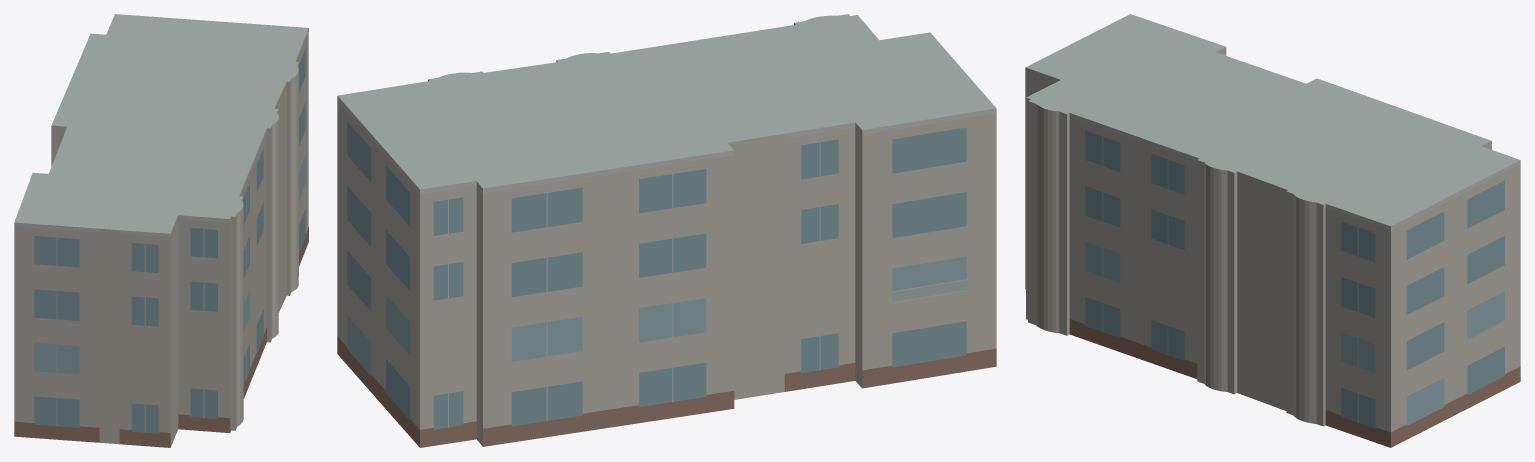
The model's file is survey-upis-32704688.glb.
3 renders of one model, left to right at view 1: azimuth 30°, elevation 25°; view 2: azimuth 150°, elevation 25°; view 3: azimuth 270°, elevation 25°, orthographic. The views are drawn at different scales.
Parts seen in each view (by area): view 1: survey-upis-32704688.tmp; view 2: survey-upis-32704688.tmp; view 3: survey-upis-32704688.tmp.
Part boxes in pixels (<box>): survey-upis-32704688.tmp: <box>14,14,308,447</box>; survey-upis-32704688.tmp: <box>337,14,996,447</box>; survey-upis-32704688.tmp: <box>1025,14,1520,447</box>.
Size of the model in its own units: 26.93 by 13.1 by 26.54.
